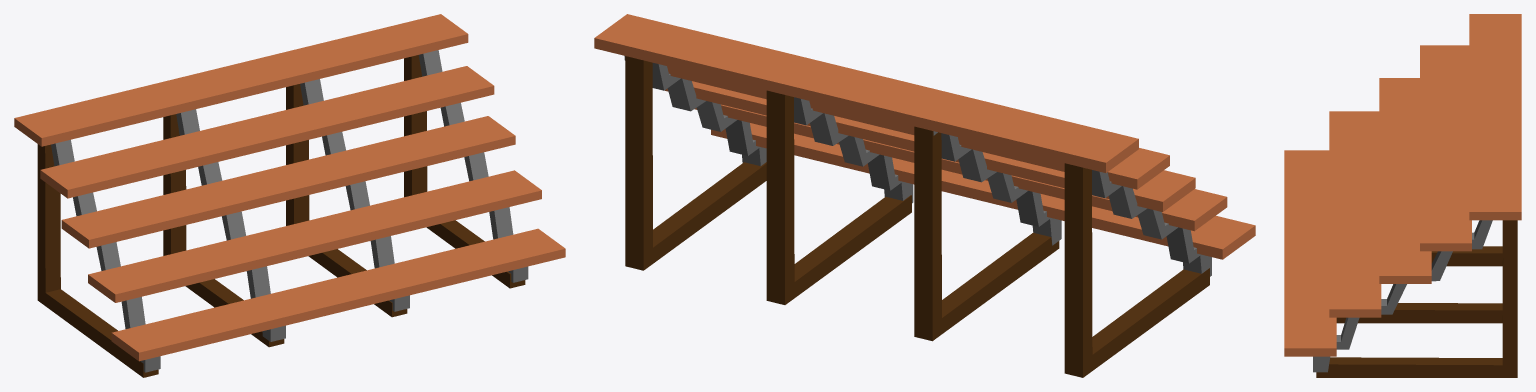
The model's file is stand.FBX.
3 views of the same model, side by side, from view 1: azimuth 30°, elevation 25°; view 2: azimuth 150°, elevation 25°; view 3: azimuth 270°, elevation 25° (orthographic). The views are drawn at different scales.
Visible parts, largest first — view 1: Box002, Box004, Box001, Box006, Box005, Line005, Line008, Line007, Line006, Line001, Line002, Line003 (+1 smaller); view 2: Box001, Line007, Line005, Line008, Line006, Box006, Box004, Box002, Box005, Line001, Line004, Line003 (+1 smaller); view 3: Box001, Box005, Box002, Box006, Box004, Line008, Line007, Line002, Line006.
Boxes of the visible parts, x1=… form: Box002: x1=40, y1=66, x2=494, y2=198; Box004: x1=61, y1=116, x2=515, y2=248; Box001: x1=14, y1=14, x2=468, y2=146; Box006: x1=111, y1=228, x2=565, y2=361; Box005: x1=88, y1=170, x2=541, y2=302; Line005: x1=37, y1=144, x2=158, y2=377; Line008: x1=404, y1=55, x2=525, y2=288; Line007: x1=286, y1=84, x2=407, y2=317; Line006: x1=163, y1=114, x2=284, y2=347; Line001: x1=176, y1=109, x2=285, y2=341; Line002: x1=418, y1=50, x2=528, y2=282; Line003: x1=300, y1=79, x2=409, y2=311; Box001: x1=594, y1=14, x2=1138, y2=172; Line007: x1=766, y1=90, x2=911, y2=304; Line005: x1=1064, y1=163, x2=1209, y2=377; Line008: x1=625, y1=56, x2=766, y2=270; Line006: x1=914, y1=126, x2=1059, y2=341; Box006: x1=711, y1=123, x2=1255, y2=259; Box004: x1=665, y1=81, x2=1195, y2=212; Box002: x1=667, y1=66, x2=1169, y2=189; Box005: x1=694, y1=104, x2=1227, y2=231; Line001: x1=933, y1=131, x2=1061, y2=245; Line004: x1=1092, y1=170, x2=1211, y2=276; Line003: x1=794, y1=97, x2=913, y2=203; Box001: x1=1469, y1=14, x2=1521, y2=220; Box005: x1=1329, y1=111, x2=1381, y2=317; Box002: x1=1420, y1=45, x2=1471, y2=251; Box006: x1=1284, y1=150, x2=1336, y2=356; Box004: x1=1379, y1=78, x2=1431, y2=283; Line008: x1=1316, y1=220, x2=1517, y2=377; Line007: x1=1336, y1=220, x2=1503, y2=323; Line002: x1=1313, y1=220, x2=1492, y2=372; Line006: x1=1431, y1=220, x2=1502, y2=266.
Size of the model in its own units: 251 by 105 by 127.
